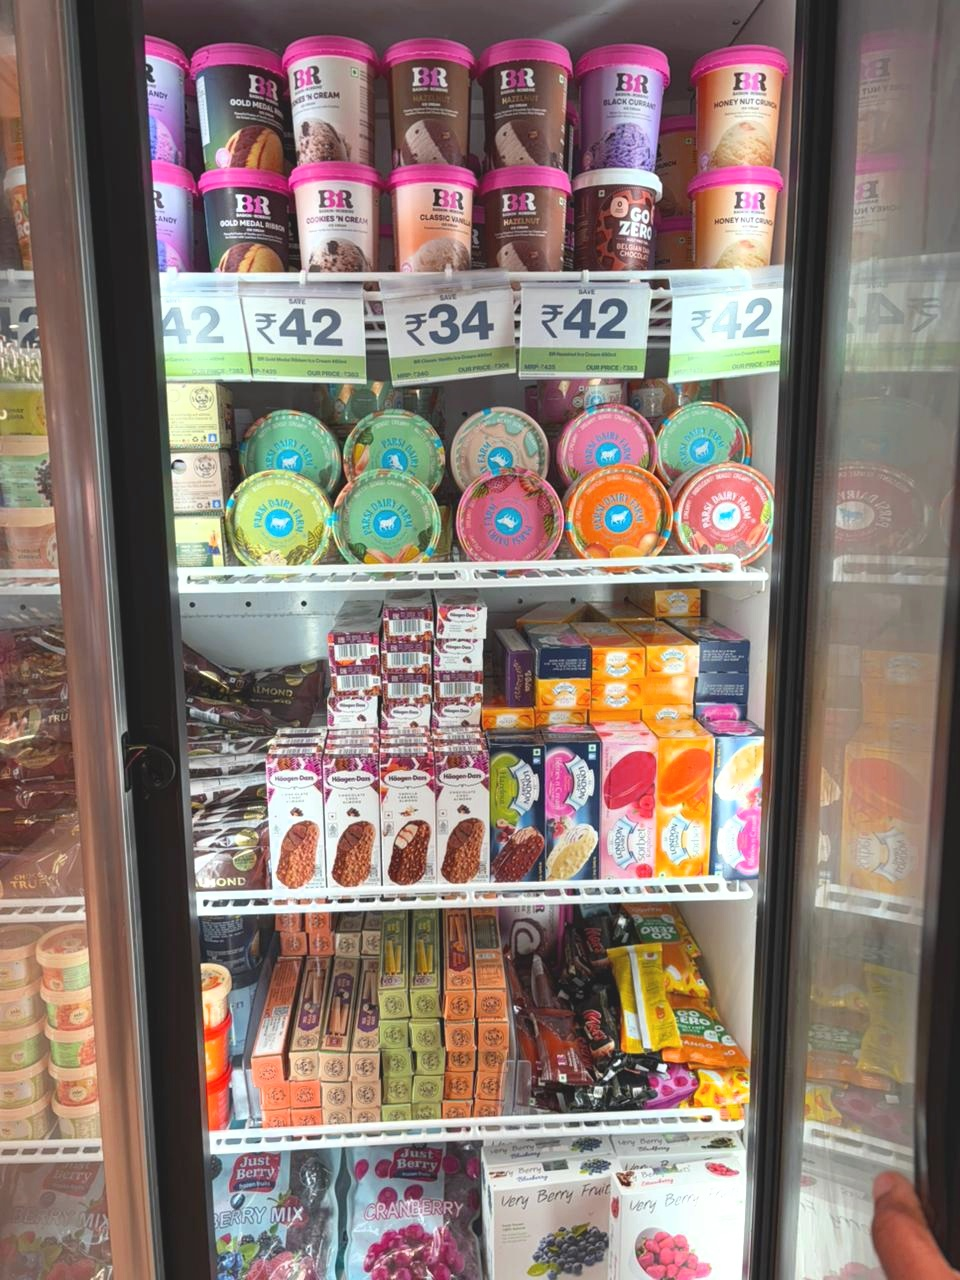Haagen-Dazs IceCream Bars: (362, 741, 446, 893), (315, 739, 386, 898), (257, 743, 328, 896), (427, 740, 491, 899), (430, 641, 491, 678), (378, 634, 432, 676), (436, 599, 491, 639), (428, 670, 486, 706), (324, 630, 376, 669), (375, 605, 436, 638), (315, 700, 380, 728), (381, 667, 432, 702), (424, 699, 486, 728), (327, 664, 376, 698), (378, 702, 434, 731)
